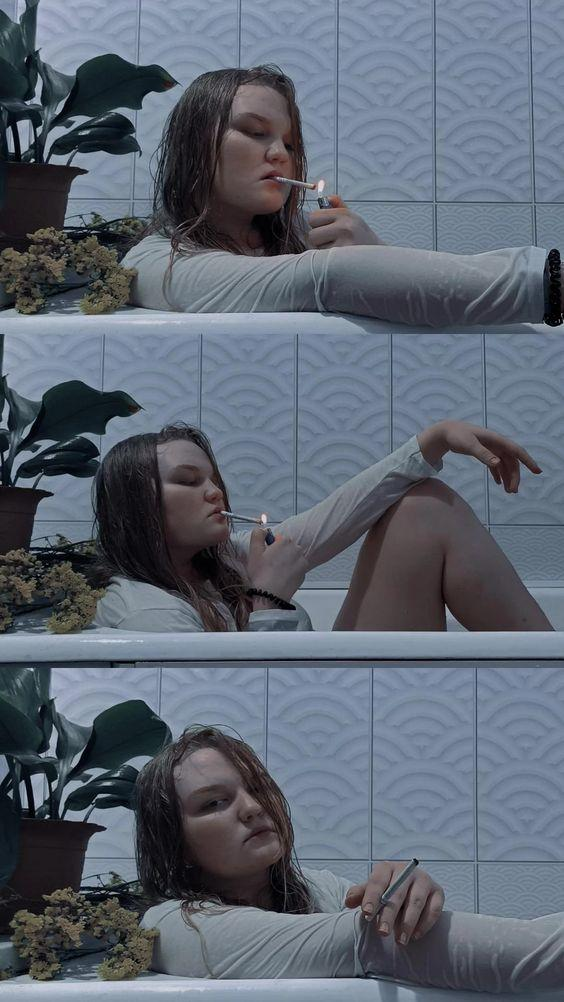cigarette: (366, 858, 419, 921), (270, 176, 316, 190), (220, 511, 262, 524)
